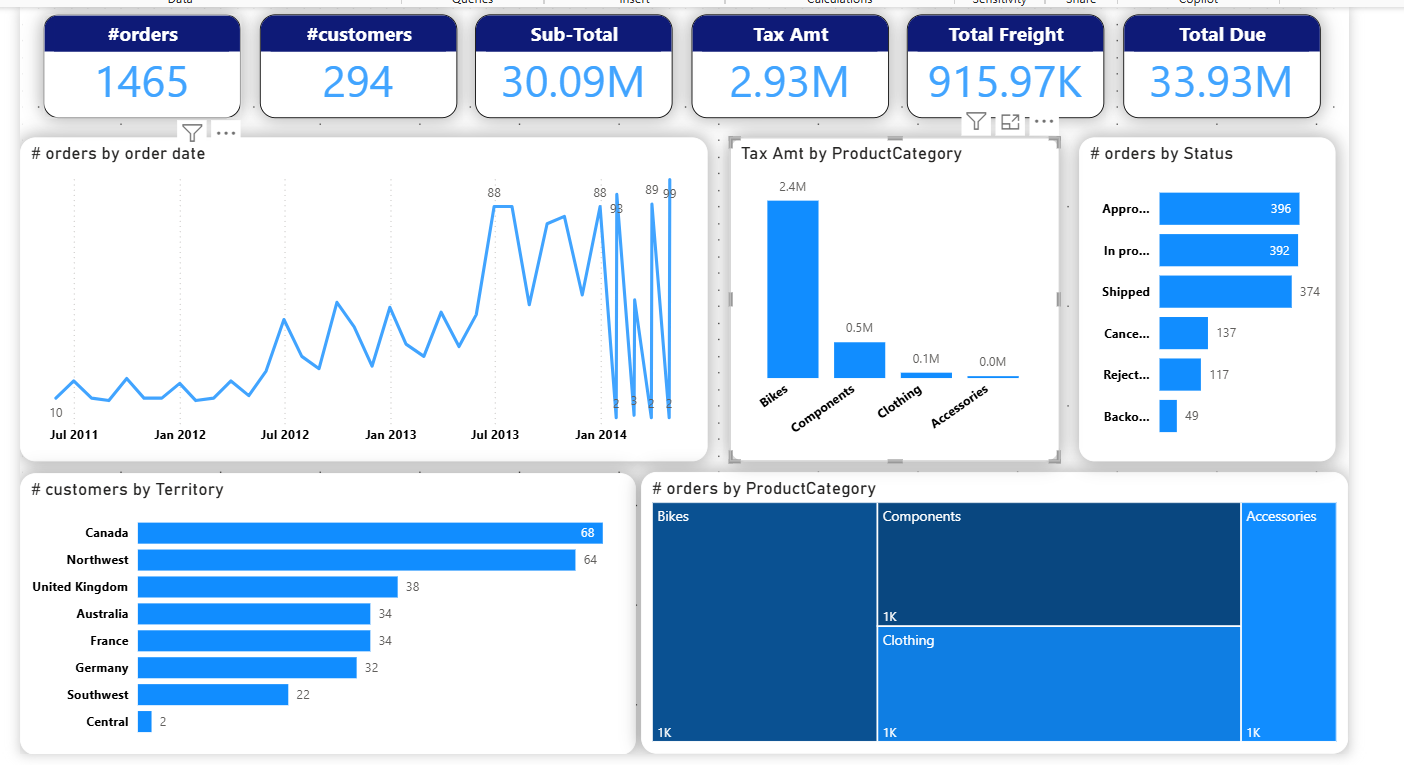

The page's visual inventory and layout, read from the dashboard file:
{"tool":"powerbi","page":{"name":"Page 1","canvas":[1280,720],"ordinal":0},"visuals":[{"type":"card","title":"#customers","fields":{"Values":["measures (2).# customers"]},"box":[231,7.5,190,100],"z":0},{"type":"card","title":"Tax Amt","fields":{"Values":["measures (2).Tax Amt"]},"box":[646.9,7.5,190,100],"z":1000},{"type":"card","title":"Total Due","fields":{"Values":["measures (2).total due"]},"box":[1062.8,7.5,190,100],"z":2000},{"type":"card","title":"Total Freight","fields":{"Values":["measures (2).total freight"]},"box":[854.8,7.5,190,100],"z":3000},{"type":"card","title":" Sub-Total","fields":{"Values":["measures (2).Total Sub-Total"]},"box":[438.9,7.5,190,100],"z":4000},{"type":"lineChart","title":"# orders by order date","fields":{"Y":["measures (2).# orders"],"Category":["dim date.OrderDate.Variation.Date Hierarchy.Year","dim date.OrderDate.Variation.Date Hierarchy.Quarter","dim date.OrderDate.Variation.Date Hierarchy.Month","dim date.OrderDate.Variation.Date Hierarchy.Day"]},"box":[0,125.7,662.5,312.3],"z":5000},{"type":"barChart","fields":{"Y":["measures (2).# customers"],"Category":["dim territory.Territory"]},"box":[0,448.9,593.6,271.8],"z":6000},{"type":"columnChart","fields":{"Y":["measures (2).Tax Amt"],"Category":["dim product.ProductCategory"]},"box":[684.2,125.7,317.7,312.3],"z":7000},{"type":"treemap","fields":{"Group":["dim product.ProductCategory Hierarchy.ProductCategory","dim product.ProductCategory Hierarchy.ProductSubCategory","dim product.ProductCategory Hierarchy.Product"],"Values":["measures (2).# orders"]},"box":[598.5,448,681.5,271.4],"z":8000},{"type":"barChart","fields":{"Y":["measures (2).# orders"],"Category":["dim status.Status"]},"box":[1020.8,125.7,247.4,312.3],"z":9000},{"type":"card","title":"#orders","fields":{"Values":["measures (2).# orders"]},"box":[23,7.5,190,100],"z":10000}]}

Visuals, with their boxes on the page's 1280x720 design canvas (x1, y1, x2, y2). These are canvas units, not pixel positions in the 1404x765 screenshot, which may show the page scaled, cropped or inside an application window:
"#customers" card: 231:8:421:108
"Tax Amt" card: 647:8:837:108
"Total Due" card: 1063:8:1253:108
"Total Freight" card: 855:8:1045:108
" Sub-Total" card: 439:8:629:108
"# orders by order date" lineChart: 0:126:662:438
barChart - measures (2).# customers x dim territory.Territory: 0:449:594:721
columnChart - measures (2).Tax Amt x dim product.ProductCategory: 684:126:1002:438
treemap - dim product.ProductCategory Hierarchy.ProductCategory x dim product.ProductCategory Hierarchy.ProductSubCategory: 598:448:1280:719
barChart - measures (2).# orders x dim status.Status: 1021:126:1268:438
"#orders" card: 23:8:213:108
